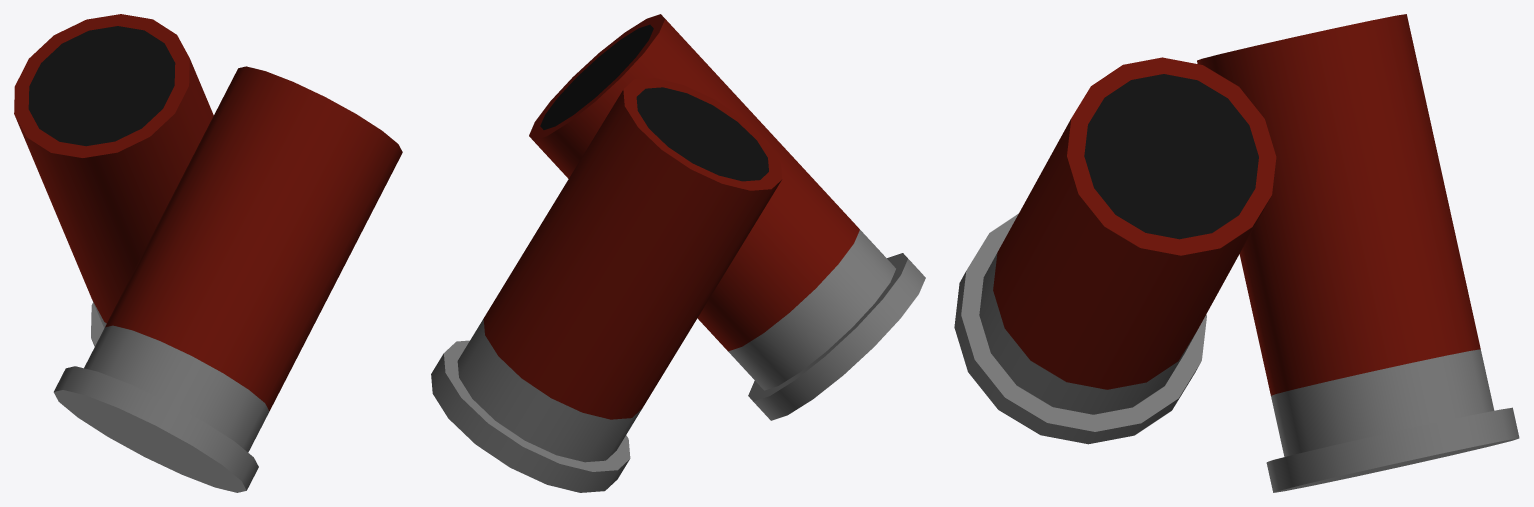
The model's file is ShotGunShells-1.glb.
3 views of the same model, side by side, from view 1: azimuth 30°, elevation 25°; view 2: azimuth 150°, elevation 25°; view 3: azimuth 270°, elevation 25° (orthographic). The views are drawn at different scales.
Parts seen in each view (by area): view 1: Cylinder.203, Cylinder.200; view 2: Cylinder.200, Cylinder.203; view 3: Cylinder.200, Cylinder.203.
Part boxes in pixels (x1=…): Cylinder.203: x1=53, y1=66, x2=402, y2=492; Cylinder.200: x1=14, y1=14, x2=213, y2=346; Cylinder.200: x1=431, y1=78, x2=782, y2=492; Cylinder.203: x1=529, y1=14, x2=925, y2=420; Cylinder.200: x1=1197, y1=14, x2=1519, y2=492; Cylinder.203: x1=954, y1=57, x2=1276, y2=444.
Size of the model in its own units: 0.1143 by 0.1228 by 0.1397.
